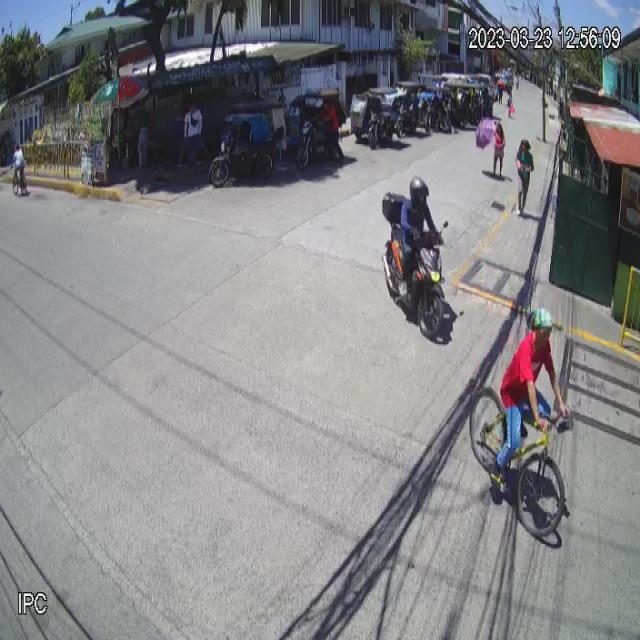Motorcycle: (381, 190, 451, 338)
